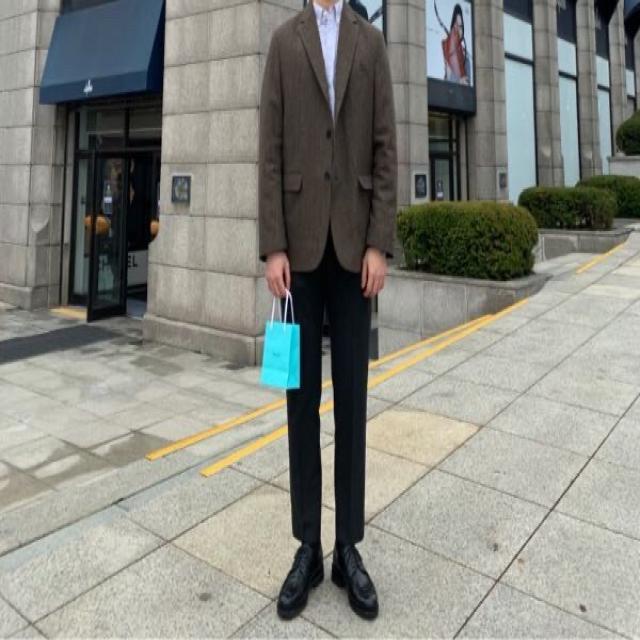blazer: (257, 3, 396, 273)
slacks: (276, 220, 370, 546)
